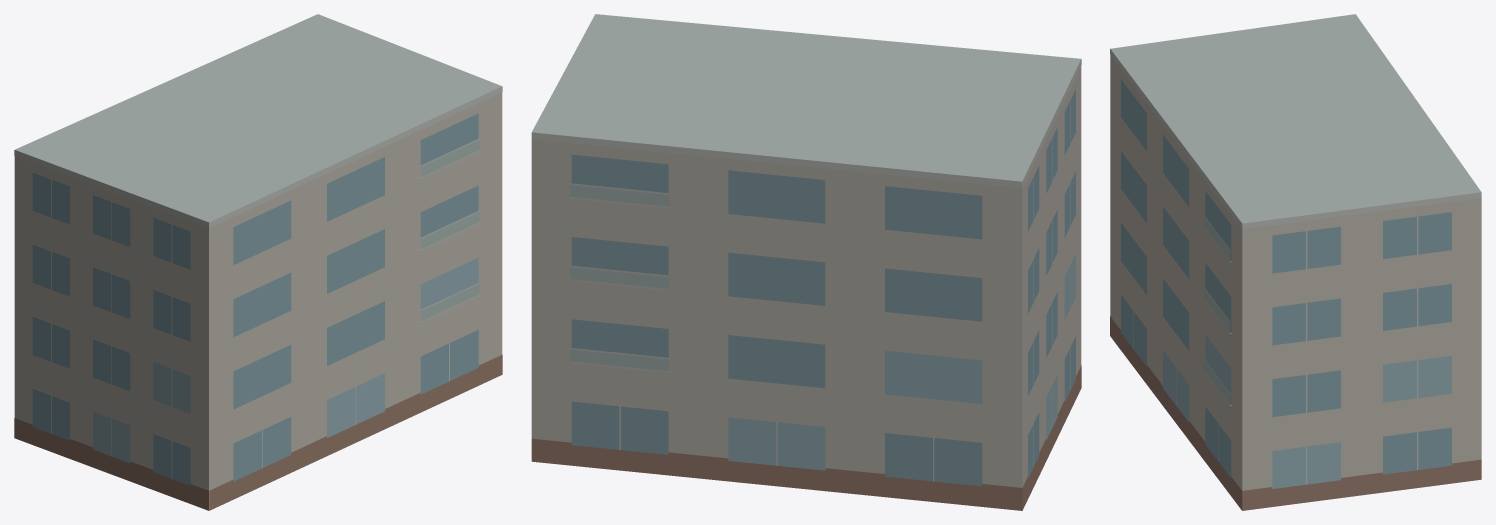
Rendered from survey-upis-32677667.glb.
The picture shows the model from 3 angles, left to right: view 1: azimuth 30°, elevation 25°; view 2: azimuth 150°, elevation 25°; view 3: azimuth 270°, elevation 25°; orthographic projection. The views are drawn at different scales.
Visible parts, largest first — view 1: survey-upis-32677667.tmp; view 2: survey-upis-32677667.tmp; view 3: survey-upis-32677667.tmp.
Boxes of the visible parts, bbox=[...] form: survey-upis-32677667.tmp: bbox=[14, 14, 502, 510]; survey-upis-32677667.tmp: bbox=[531, 14, 1081, 510]; survey-upis-32677667.tmp: bbox=[1110, 14, 1481, 510].
Size of the model in its own units: 18.93 by 12.1 by 14.18.
